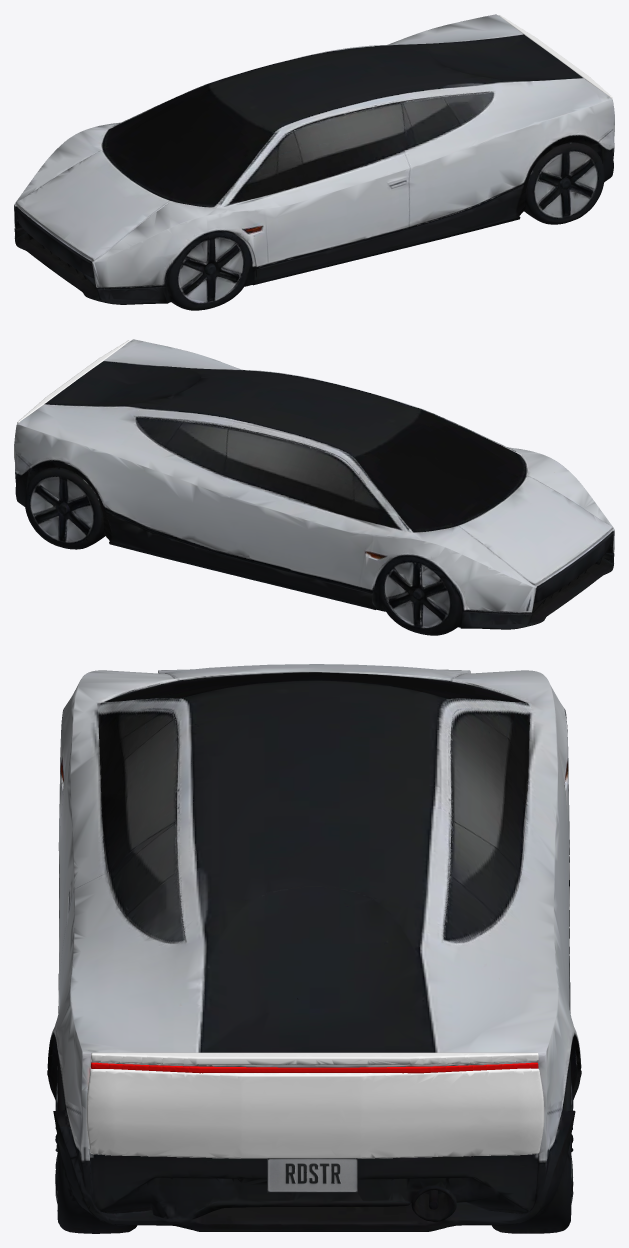
The model's file is roadster.glb.
3 views of the same model, one above another, from view 1: azimuth 30°, elevation 25°; view 2: azimuth 150°, elevation 25°; view 3: azimuth 270°, elevation 25° (orthographic). The views are drawn at different scales.
Parts seen in each view (by area): view 1: Object_2, Object_9; view 2: Object_2, Object_9; view 3: Object_2, Object_9, Object_11, Object_8.
Boxes of the visible parts, left/top/right/bottom form: Object_2: left=14, top=14, right=614, bottom=310; Object_9: left=498, top=15, right=614, bottom=131; Object_2: left=14, top=339, right=614, bottom=635; Object_9: left=14, top=340, right=130, bottom=461; Object_2: left=47, top=664, right=581, bottom=1233; Object_9: left=86, top=1052, right=544, bottom=1158; Object_11: left=267, top=1158, right=357, bottom=1192; Object_8: left=91, top=1062, right=538, bottom=1073.
Size of the model in its own units: 66.58 by 18.05 by 30.1.
5 materials, 5 textured.
